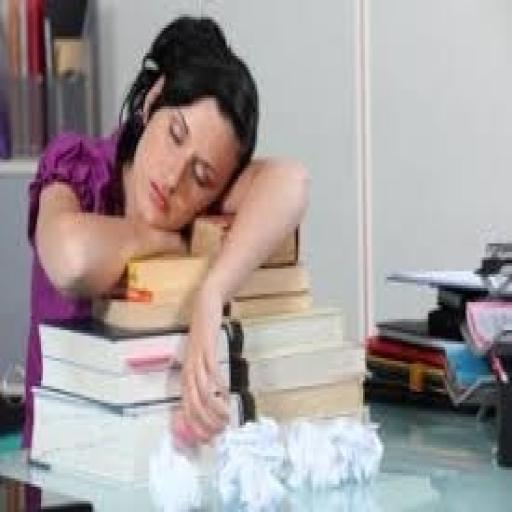sleeping: (20, 11, 313, 451)
